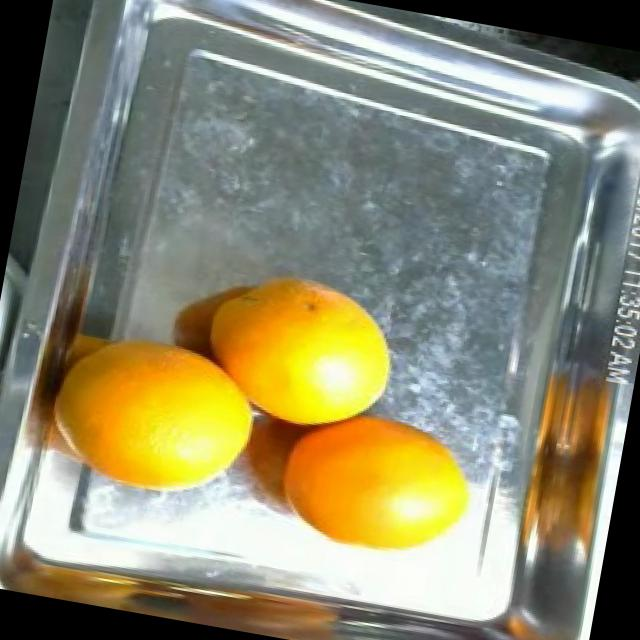Fruit: (270, 386, 506, 584), (205, 256, 416, 450)
